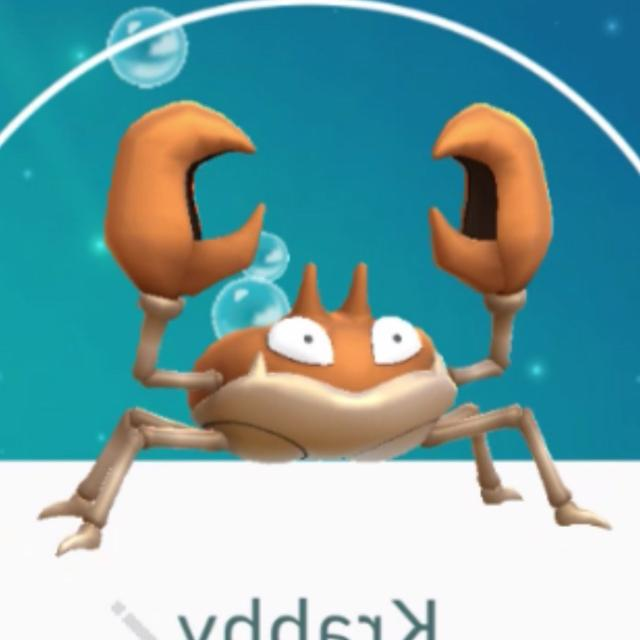Krabby: (102, 193, 553, 469)
